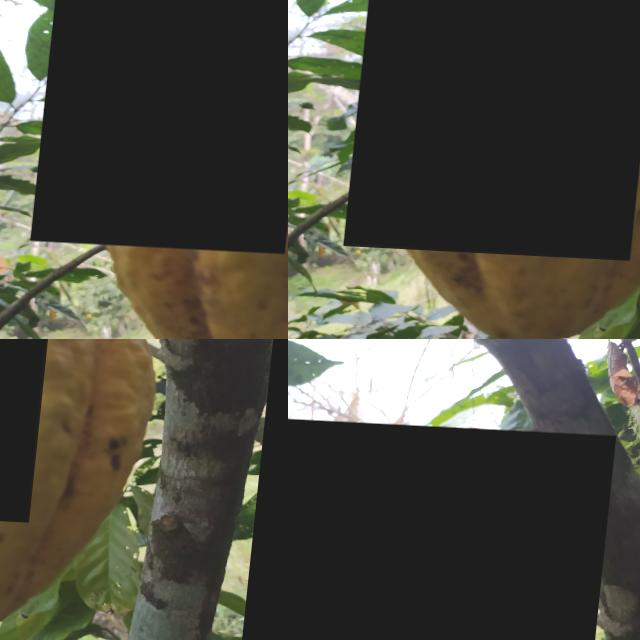Monilia: (354, 0, 640, 255)
Sana: (288, 415, 619, 640), (40, 0, 288, 249)
